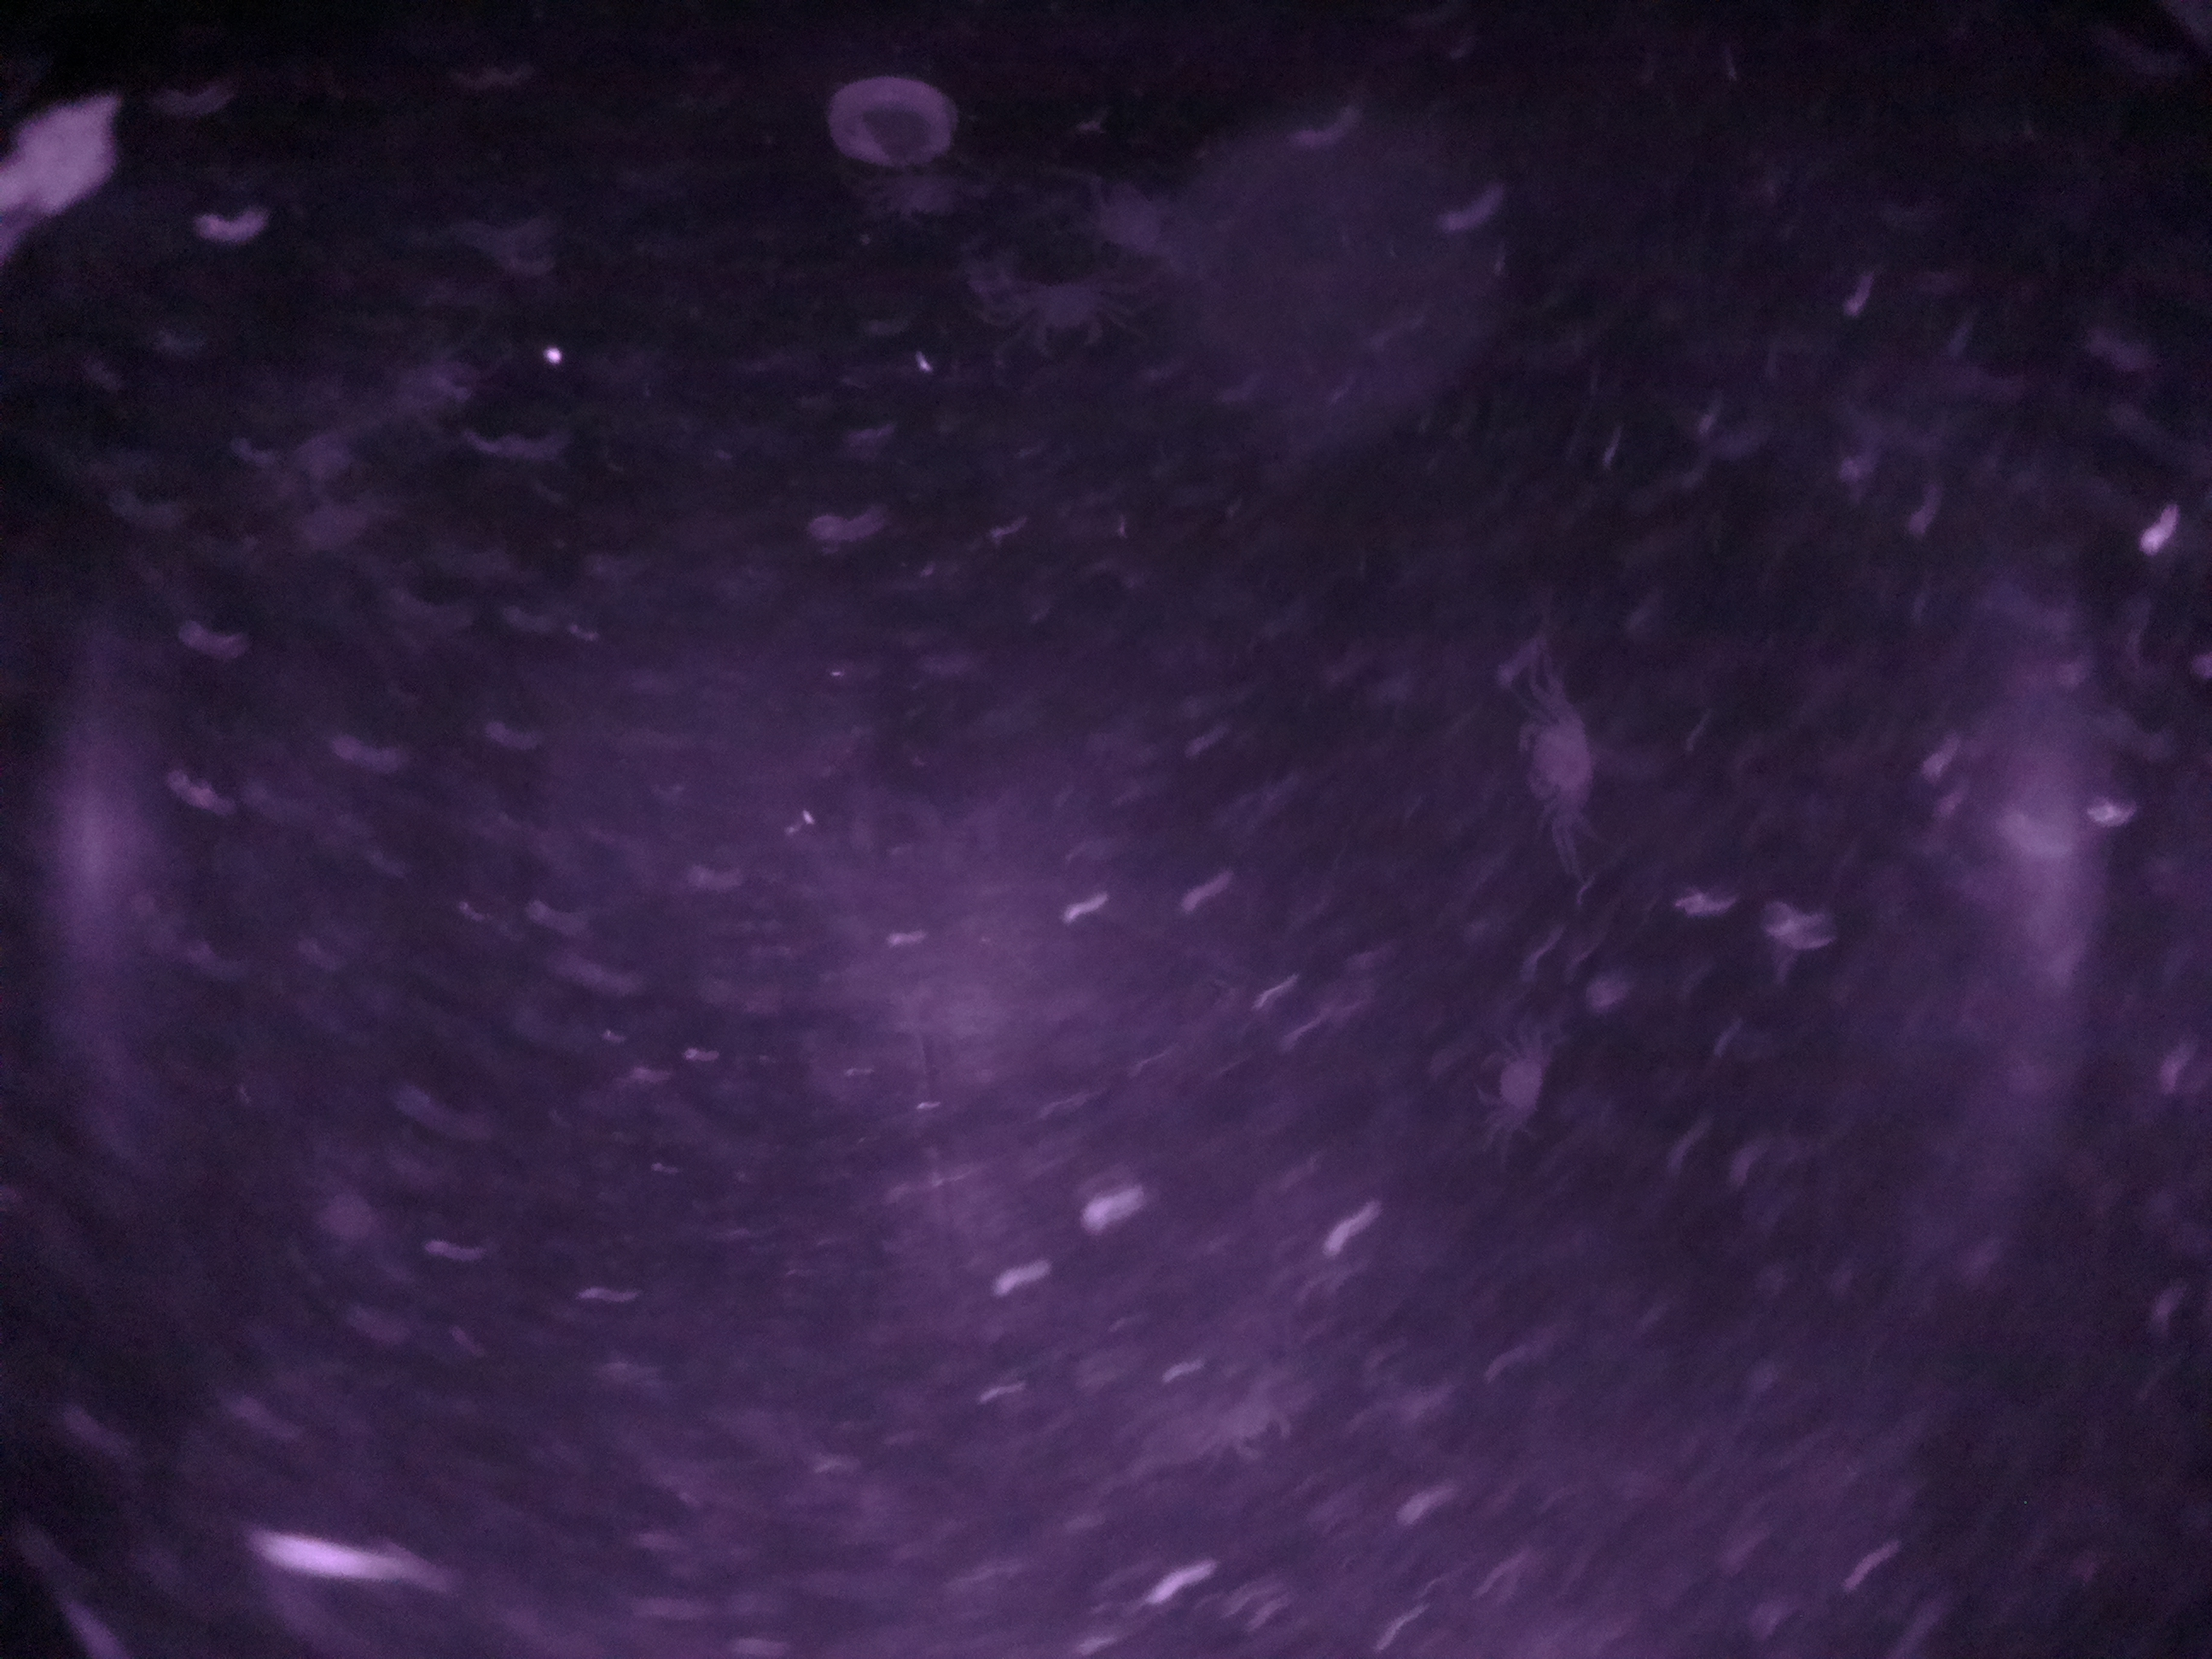Crab: (1449, 1026, 1580, 1138), (1515, 685, 1615, 819)
